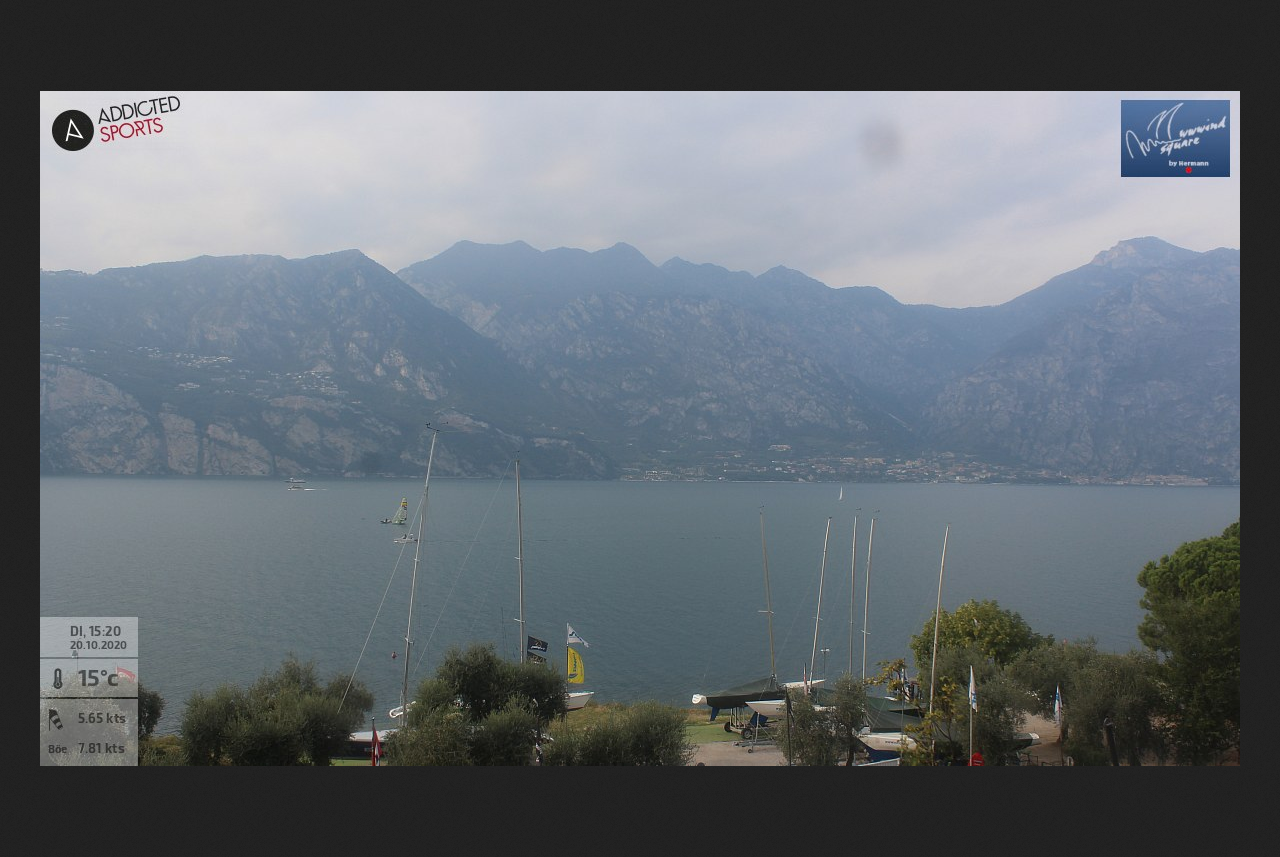maybe: (567, 620, 588, 648)
no: (368, 716, 383, 765), (965, 669, 980, 713), (1053, 685, 1063, 727)
yes: (530, 637, 547, 653)
